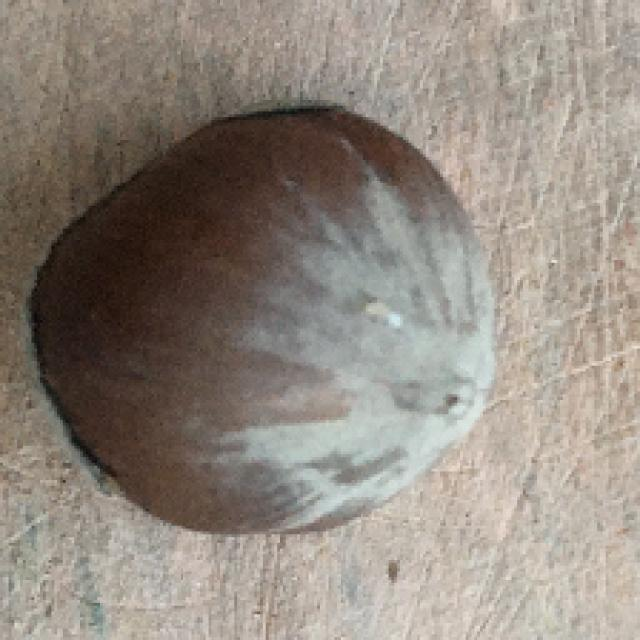damagedHazelnut: (20, 95, 507, 551)
